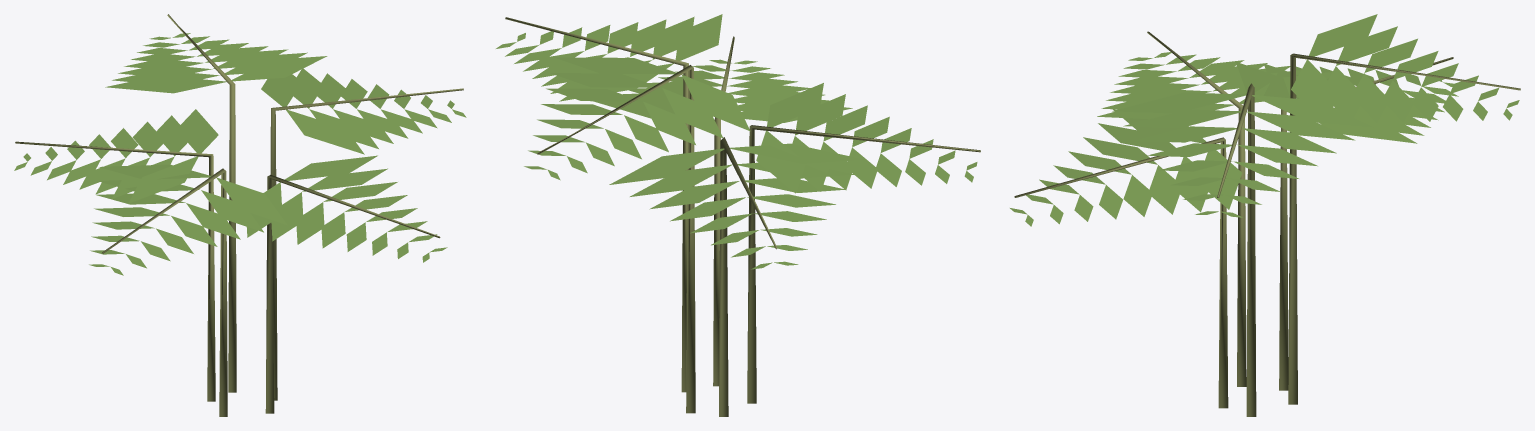
The model's file is bracken.glb.
3 renders of one model, left to right at view 1: azimuth 30°, elevation 25°; view 2: azimuth 150°, elevation 25°; view 3: azimuth 270°, elevation 25°, orthographic. The views are drawn at different scales.
Visible parts, largest first — view 1: understory_bracken_LOD0; view 2: understory_bracken_LOD0; view 3: understory_bracken_LOD0.
Boxes of the visible parts, x1,y1,x2,y2 form: understory_bracken_LOD0: (14,14,466,416); understory_bracken_LOD0: (496,14,980,416); understory_bracken_LOD0: (1010,14,1520,416).
Size of the model in its own units: 1.67 by 1.24 by 1.65.
